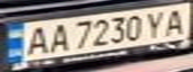0: (124, 11, 145, 42)
2: (90, 16, 115, 47)
3: (109, 14, 130, 45)
7: (69, 18, 93, 51)
A: (21, 24, 54, 56), (160, 6, 193, 37), (45, 20, 72, 54)
Y: (142, 8, 172, 39)
